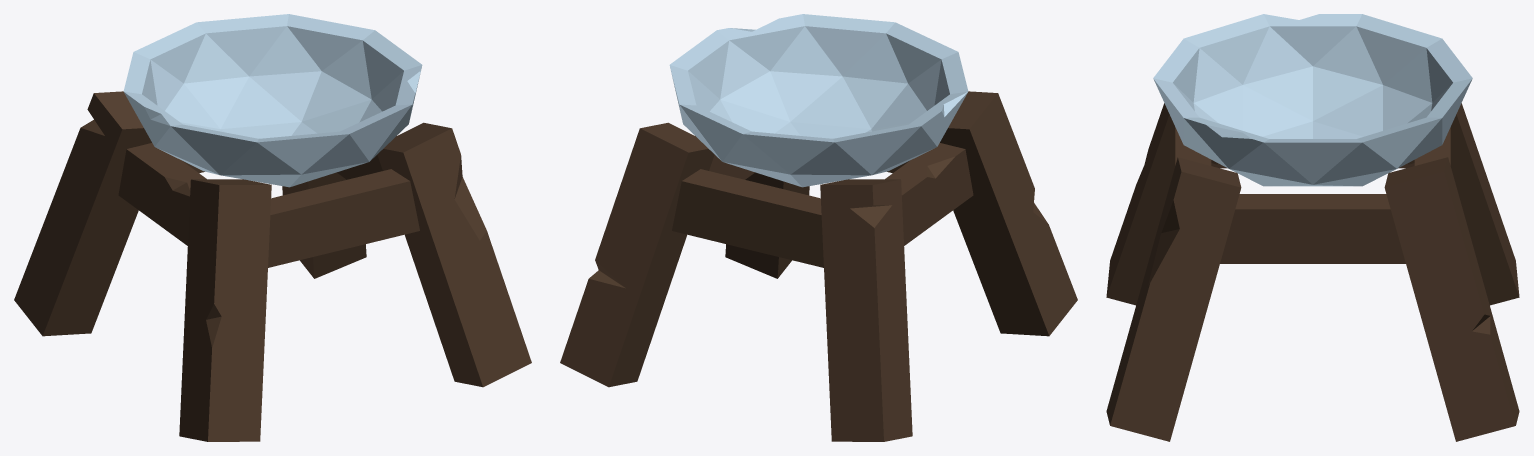
The model's file is Brazier_Medium.fbx.
The picture shows the model from 3 angles, left to right: view 1: azimuth 30°, elevation 25°; view 2: azimuth 150°, elevation 25°; view 3: azimuth 270°, elevation 25°; orthographic projection. The views are drawn at different scales.
Parts seen in each view (by area): view 1: Icosphere; view 2: Icosphere; view 3: Icosphere.
Part boxes in pixels (x1,y1,x2,y2): Icosphere: (14, 14, 531, 441); Icosphere: (560, 14, 1077, 441); Icosphere: (1106, 14, 1519, 441).
Size of the model in its own units: 2.45 by 2.02 by 2.58.
